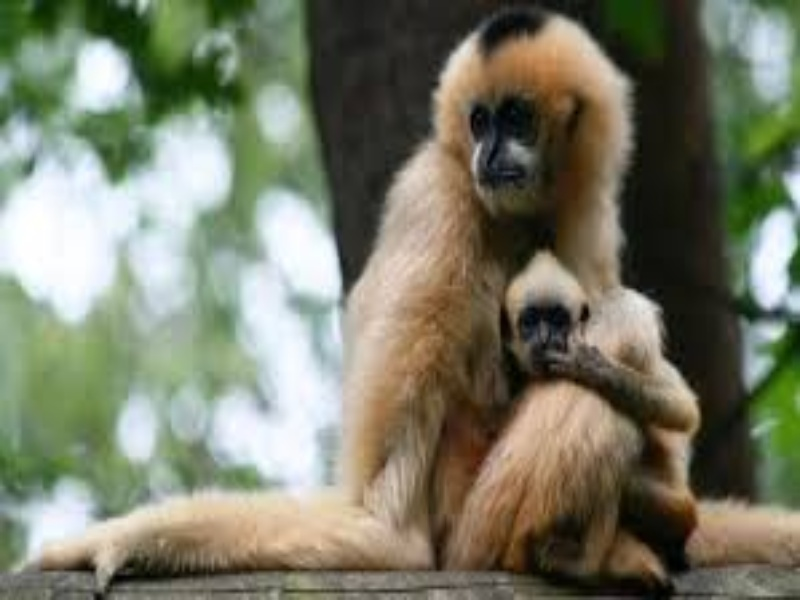monkey: (117, 20, 728, 595)
